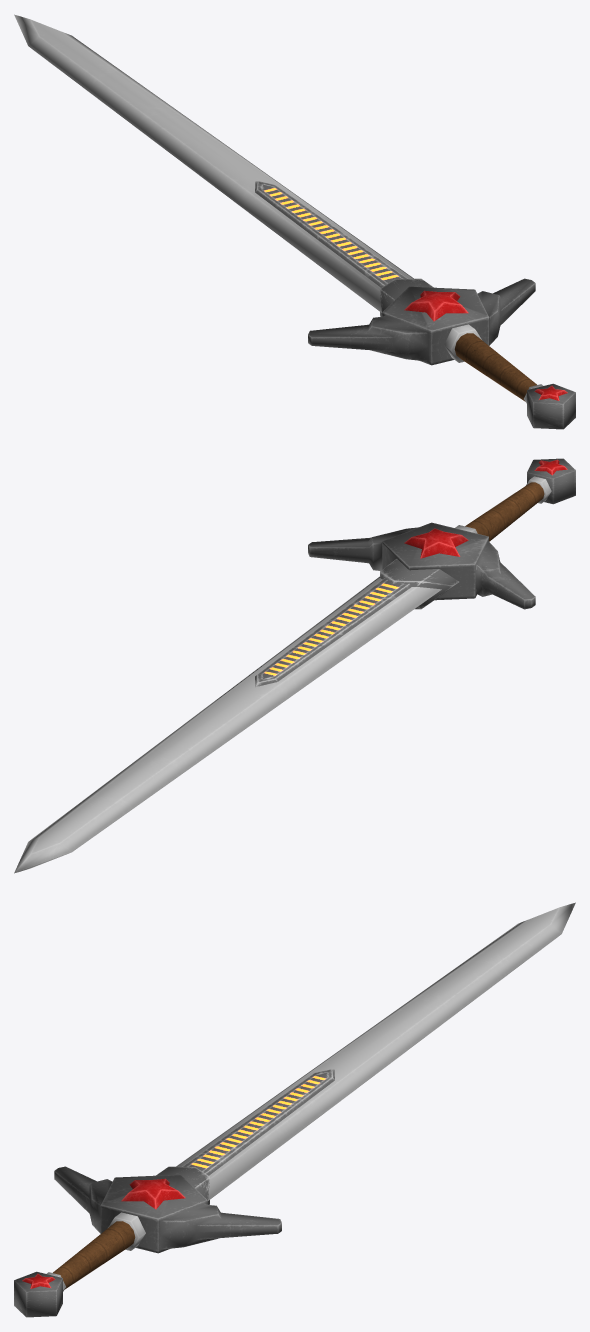
The model's file is soviet_sword.glb.
3 renders of one model, top to bottom at view 1: azimuth 30°, elevation 25°; view 2: azimuth 150°, elevation 25°; view 3: azimuth 330°, elevation 25°, orthographic.
Visible parts, largest first — view 1: blade_low, garda_low, hand_low, apple_low, star_1_low; view 2: blade_low, garda_low, hand_low, apple_low, star_1_low; view 3: blade_low, garda_low, hand_low, apple_low, star_1_low.
Boxes of the visible parts, x1=… form: blade_low: x1=14, y1=14, x2=433, y2=316; garda_low: x1=308, y1=278, x2=535, y2=365; hand_low: x1=454, y1=333, x2=536, y2=401; apple_low: x1=527, y1=383, x2=575, y2=429; star_1_low: x1=404, y1=290, x2=468, y2=321; blade_low: x1=14, y1=559, x2=458, y2=873; garda_low: x1=308, y1=522, x2=535, y2=609; hand_low: x1=465, y1=482, x2=544, y2=541; apple_low: x1=527, y1=458, x2=575, y2=504; star_1_low: x1=404, y1=528, x2=468, y2=558; blade_low: x1=156, y1=902, x2=575, y2=1204; garda_low: x1=54, y1=1166, x2=281, y2=1253; hand_low: x1=53, y1=1221, x2=135, y2=1289; apple_low: x1=14, y1=1271, x2=62, y2=1317; star_1_low: x1=121, y1=1178, x2=185, y2=1209.
Bounding box in the file's own units: 0.2659 × 0.0612 × 1.13.
Materials: 1 (1 with a texture image).
